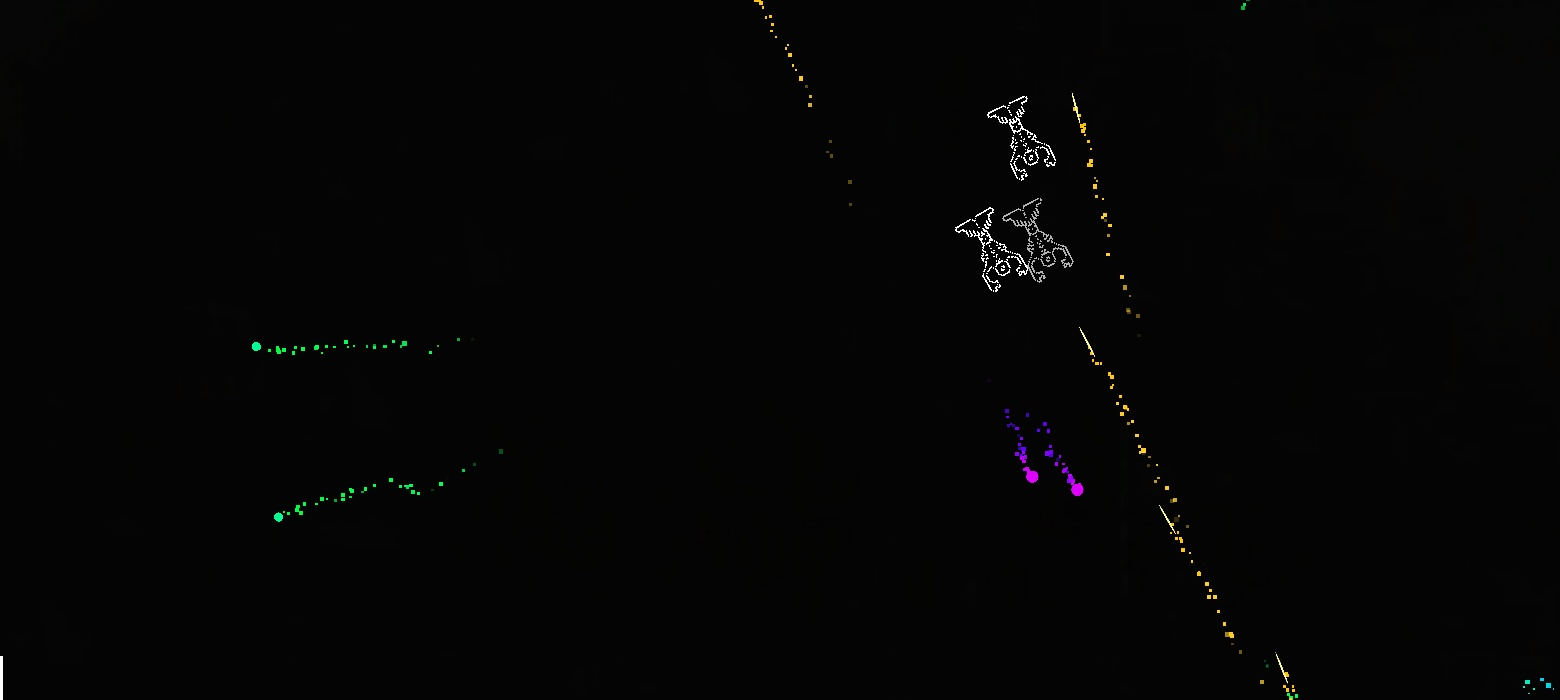enemy: (955, 206, 1027, 292), (1003, 198, 1073, 283), (987, 95, 1055, 181)
